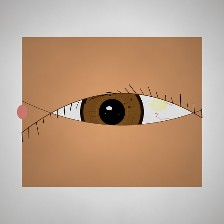pinguecula_lesion: (141, 91, 176, 119)
